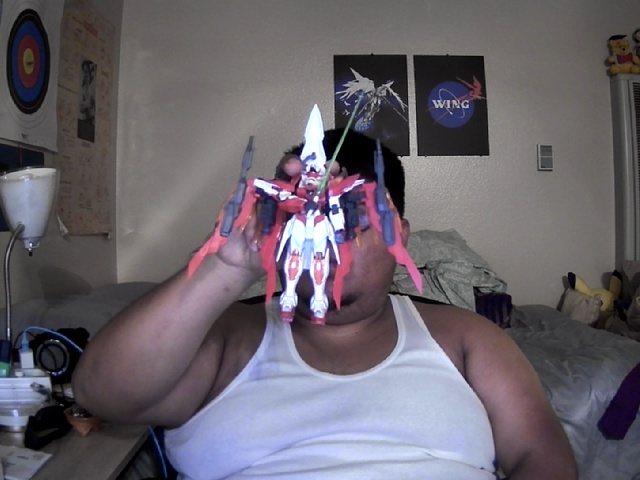Honoo: (186, 105, 424, 324)
